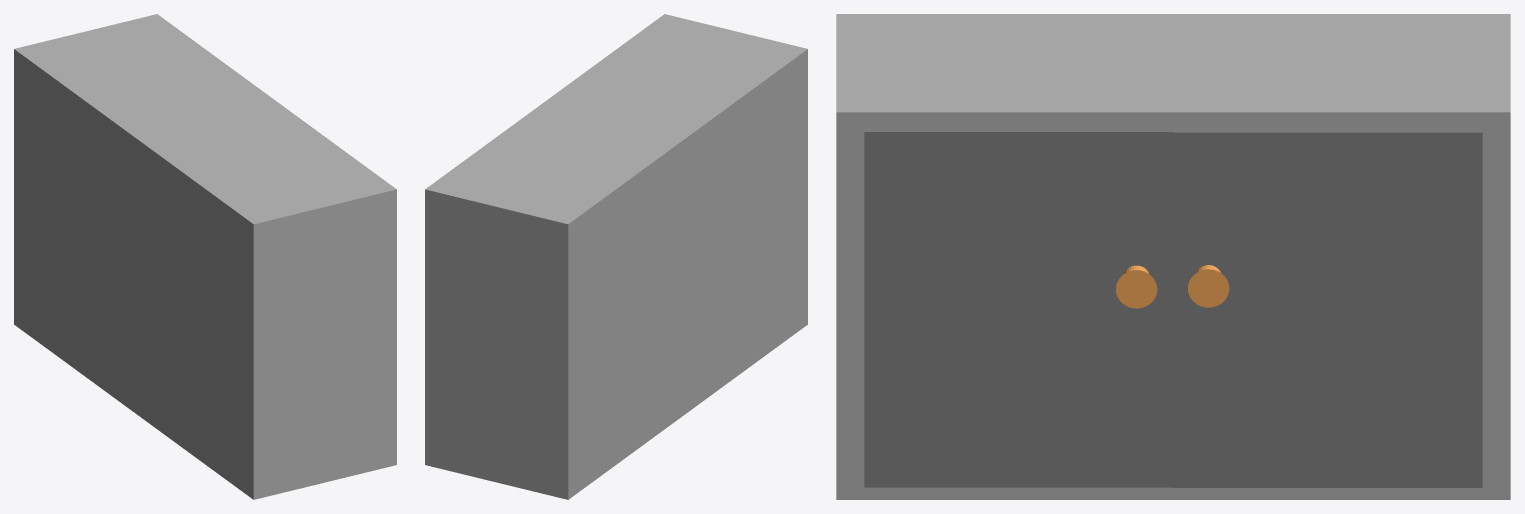
Rendered from Mueble.fbx.
3 views of the same model, side by side, from view 1: azimuth 30°, elevation 25°; view 2: azimuth 150°, elevation 25°; view 3: azimuth 270°, elevation 25° (orthographic). The views are drawn at different scales.
Parts seen in each view (by area): view 1: Cube; view 2: Cube; view 3: Cube.
Part boxes in pixels (x1,y1,x2,y2): Cube: (14,14,396,499); Cube: (425,14,807,499); Cube: (836,14,1510,499).
Bounding box in the file's own units: 231 × 368 × 580.
